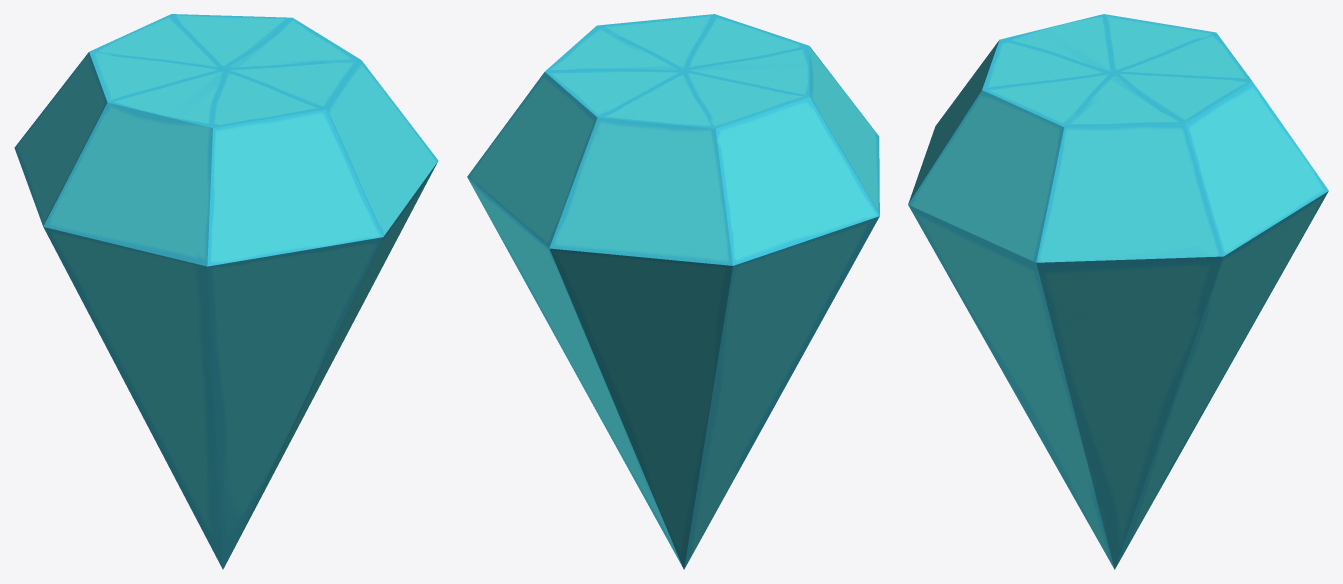
File: diamante.glb
3 views of the same model, side by side, from view 1: azimuth 30°, elevation 25°; view 2: azimuth 150°, elevation 25°; view 3: azimuth 270°, elevation 25° (orthographic).
Visible parts, largest first — view 1: diamante; view 2: diamante; view 3: diamante.
Part boxes in pixels (bbox=[...]): diamante: bbox=[14, 14, 438, 569]; diamante: bbox=[467, 14, 879, 569]; diamante: bbox=[908, 14, 1328, 569].
Size of the model in its own units: 2.09 by 2.75 by 2.11.
Materials: 1 (1 with a texture image).
